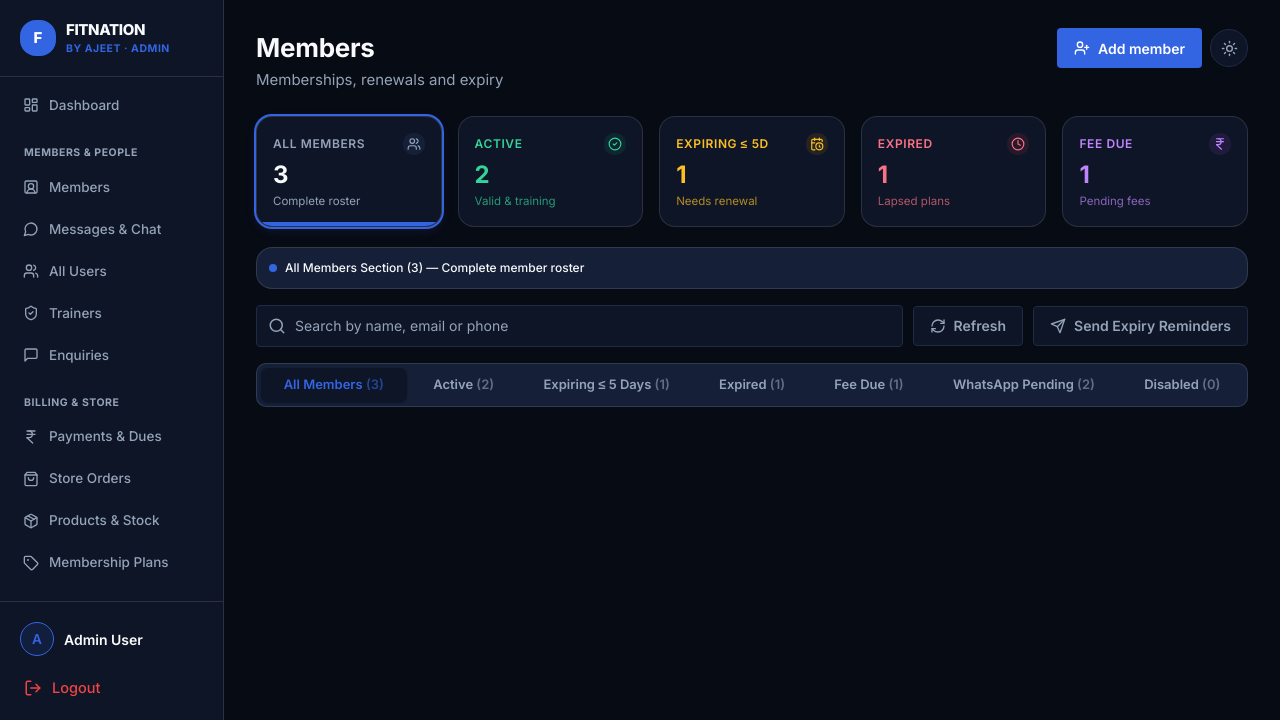
Test: AdminMembers page › filters member rows by search input
The width and height of the screenshot is (1280, 720).
Type "Alice" into the field with placeholder "Search by name, email or phone" at point(579, 326), box [256,305,903,347]
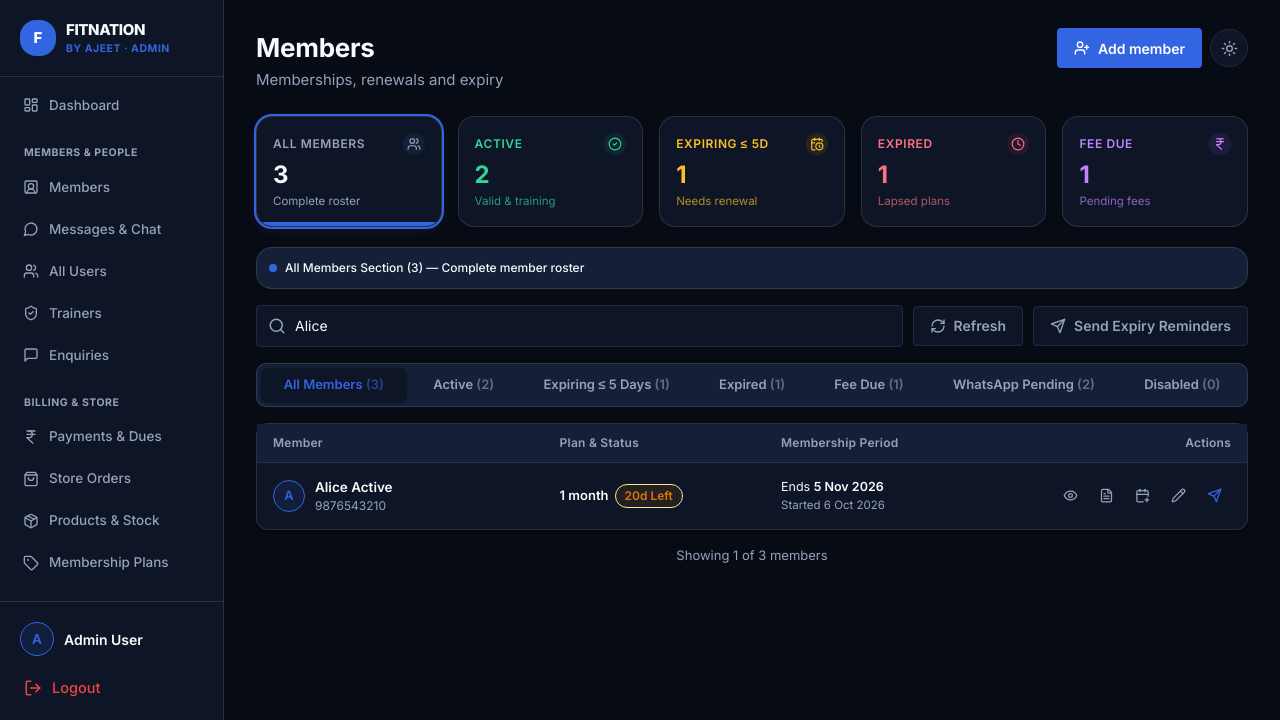
Result: the text "Alice Active" is shown at [315,477,393,497]
